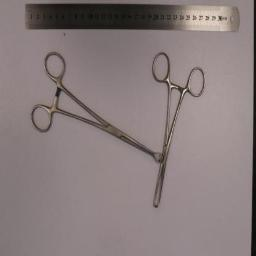Allis Tissue Forceps: (152, 52, 206, 208)
